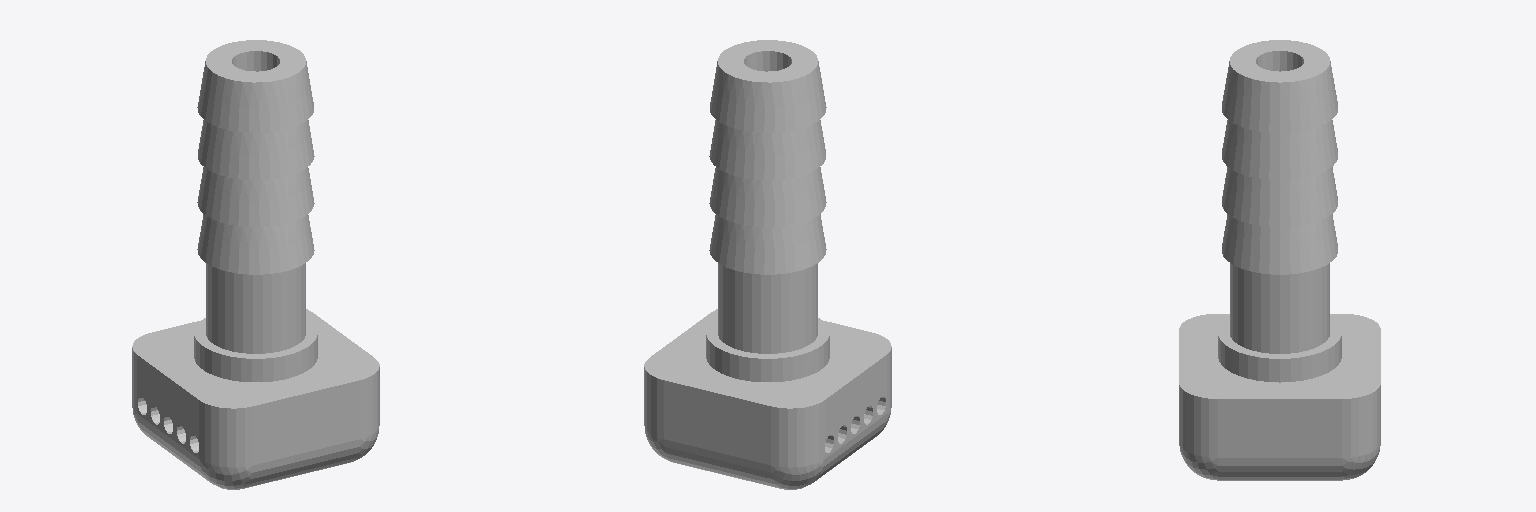
Rendered from vacuum_vent.obj.
3 views of the same model, side by side, from view 1: azimuth 30°, elevation 25°; view 2: azimuth 150°, elevation 25°; view 3: azimuth 270°, elevation 25° (orthographic).
Visible parts, largest first — view 1: Solid1; view 2: Solid1; view 3: Solid1.
Boxes of the visible parts, x1=… form: Solid1: x1=132, y1=40, x2=379, y2=489; Solid1: x1=644, y1=40, x2=891, y2=489; Solid1: x1=1179, y1=40, x2=1380, y2=480.
Size of the model in its own units: 15.53 by 33 by 15.53.